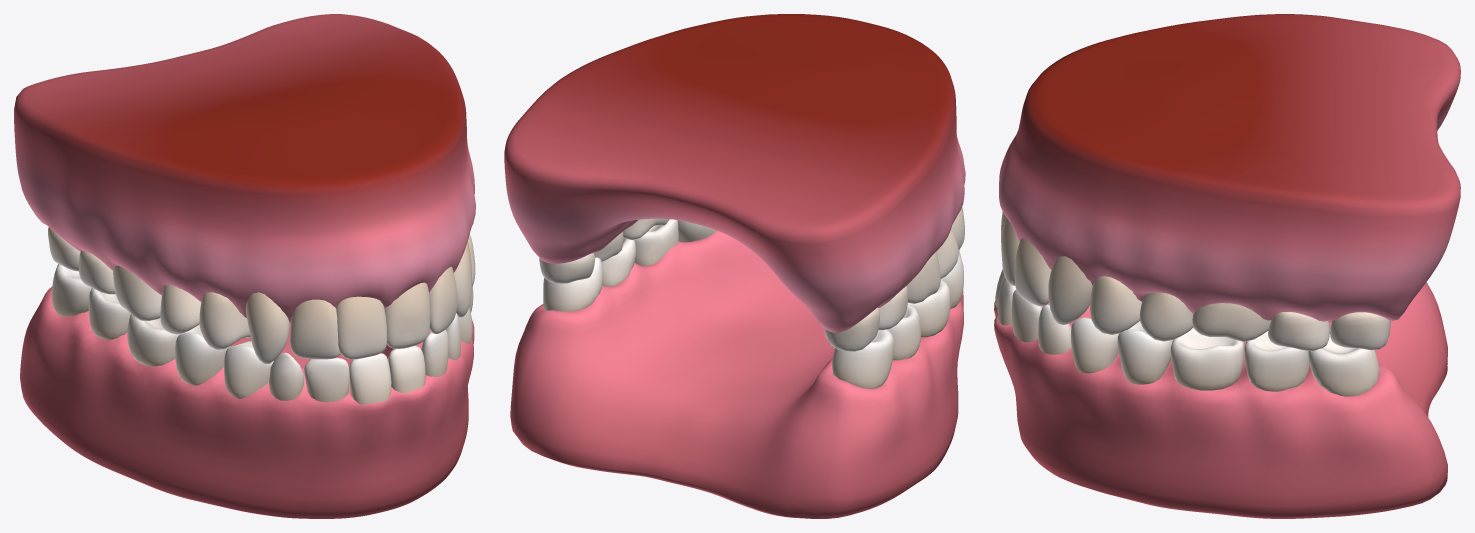
The model's file is mouth_model_optimized.glb.
3 views of the same model, side by side, from view 1: azimuth 30°, elevation 25°; view 2: azimuth 150°, elevation 25°; view 3: azimuth 270°, elevation 25° (orthographic). The views are drawn at different scales.
Visible parts, largest first — view 1: Gums_Upper, Gums_Lower, Tooth_11_Upper_R_CentralIncisor, Tooth_12_Upper_R_LateralIncisor, Tooth_21_Upper_L_CentralIncisor, Tooth_13_Upper_R_Canine, Tooth_14_Upper_R_Premolar1, Tooth_45_Lower_R_Premolar2, Tooth_44_Lower_R_Premolar1, Tooth_46_Lower_R_Molar1, Tooth_41_Lower_R_CentralIncisor, Tooth_42_Lower_R_LateralIncisor (+11 smaller); view 2: Gums_Upper, Gums_Lower, Tooth_48_Lower_R_Molar3, Tooth_38_Lower_L_Molar3, Tooth_36_Lower_L_Molar1, Tooth_46_Lower_R_Molar1, Tooth_18_Upper_R_Molar3, Tooth_47_Lower_R_Molar2, Tooth_28_Upper_L_Molar3, Tooth_16_Upper_R_Molar1, Tooth_37_Lower_L_Molar2, Tooth_17_Upper_R_Molar2 (+4 smaller); view 3: Gums_Upper, Gums_Lower, Tooth_36_Lower_L_Molar1, Tooth_38_Lower_L_Molar3, Tooth_37_Lower_L_Molar2, Tooth_35_Lower_L_Premolar2, Tooth_24_Upper_L_Premolar1, Tooth_23_Upper_L_Canine, Tooth_26_Upper_L_Molar1, Tooth_25_Upper_L_Premolar2, Tooth_34_Lower_L_Premolar1, Tooth_27_Upper_L_Molar2 (+6 smaller).
Boxes of the visible parts, <box> form: Gums_Upper: <box>14,14,475,323</box>; Gums_Lower: <box>20,286,474,518</box>; Tooth_11_Upper_R_CentralIncisor: <box>336,296,387,359</box>; Tooth_12_Upper_R_LateralIncisor: <box>290,299,340,359</box>; Tooth_21_Upper_L_CentralIncisor: <box>384,282,430,348</box>; Tooth_13_Upper_R_Canine: <box>246,292,289,364</box>; Tooth_14_Upper_R_Premolar1: <box>199,292,250,350</box>; Tooth_45_Lower_R_Premolar2: <box>175,324,231,385</box>; Tooth_44_Lower_R_Premolar1: <box>224,341,273,398</box>; Tooth_46_Lower_R_Molar1: <box>127,314,179,366</box>; Tooth_41_Lower_R_CentralIncisor: <box>349,353,391,404</box>; Tooth_42_Lower_R_LateralIncisor: <box>304,357,349,402</box>; Gums_Upper: <box>504,14,965,332</box>; Gums_Lower: <box>510,231,963,518</box>; Tooth_48_Lower_R_Molar3: <box>831,329,894,388</box>; Tooth_38_Lower_L_Molar3: <box>543,257,603,311</box>; Tooth_36_Lower_L_Molar1: <box>634,219,678,266</box>; Tooth_46_Lower_R_Molar1: <box>907,280,950,337</box>; Tooth_18_Upper_R_Molar3: <box>823,307,879,351</box>; Tooth_47_Lower_R_Molar2: <box>887,304,921,360</box>; Tooth_28_Upper_L_Molar3: <box>539,253,594,283</box>; Tooth_16_Upper_R_Molar1: <box>907,251,940,303</box>; Tooth_37_Lower_L_Molar2: <box>602,238,636,286</box>; Tooth_17_Upper_R_Molar2: <box>878,286,907,330</box>; Gums_Upper: <box>999,14,1460,322</box>; Gums_Lower: <box>994,282,1447,518</box>; Tooth_36_Lower_L_Molar1: <box>1170,328,1244,390</box>; Tooth_38_Lower_L_Molar3: <box>1308,329,1379,396</box>; Tooth_37_Lower_L_Molar2: <box>1244,331,1309,391</box>; Tooth_35_Lower_L_Premolar2: <box>1117,321,1173,384</box>; Tooth_24_Upper_L_Premolar1: <box>1090,276,1141,334</box>; Tooth_23_Upper_L_Canine: <box>1048,256,1092,324</box>; Tooth_26_Upper_L_Molar1: <box>1192,303,1271,341</box>; Tooth_25_Upper_L_Premolar2: <box>1139,292,1193,341</box>; Tooth_34_Lower_L_Premolar1: <box>1070,317,1118,373</box>; Tooth_27_Upper_L_Molar2: <box>1268,312,1329,351</box>.
Size of the model in its own units: 0.9751 by 0.8705 by 1.02.
1 material, 1 textured.
